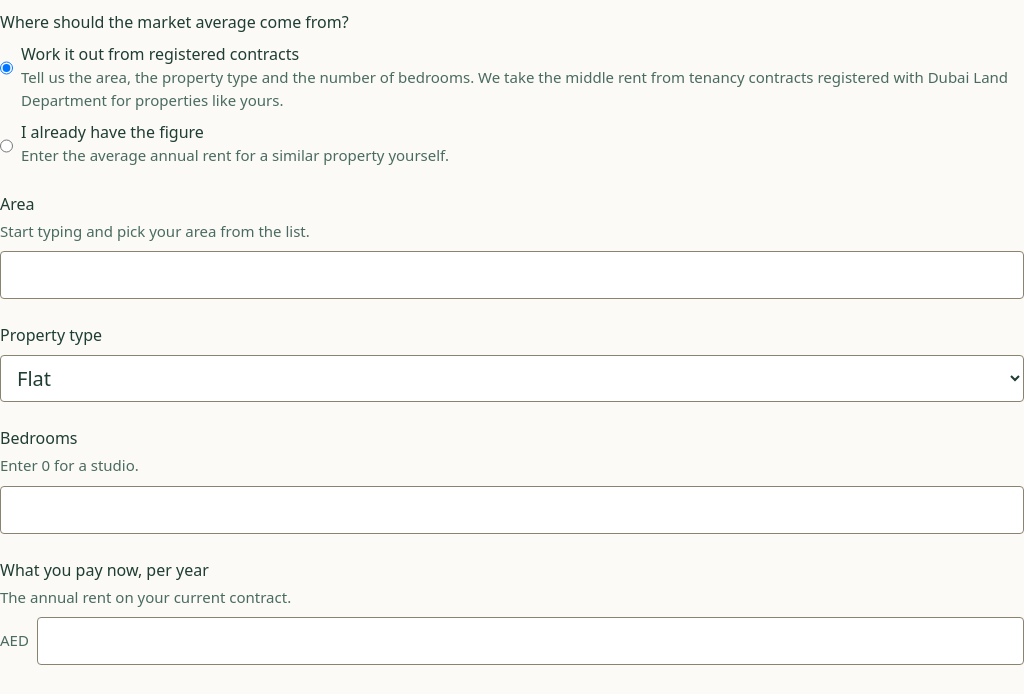
it: the document a reader takes away › is offered once there is a result
Type "Al Barsha First" into the field labelled "Area" at (512, 275), box [0,251,1023,299]
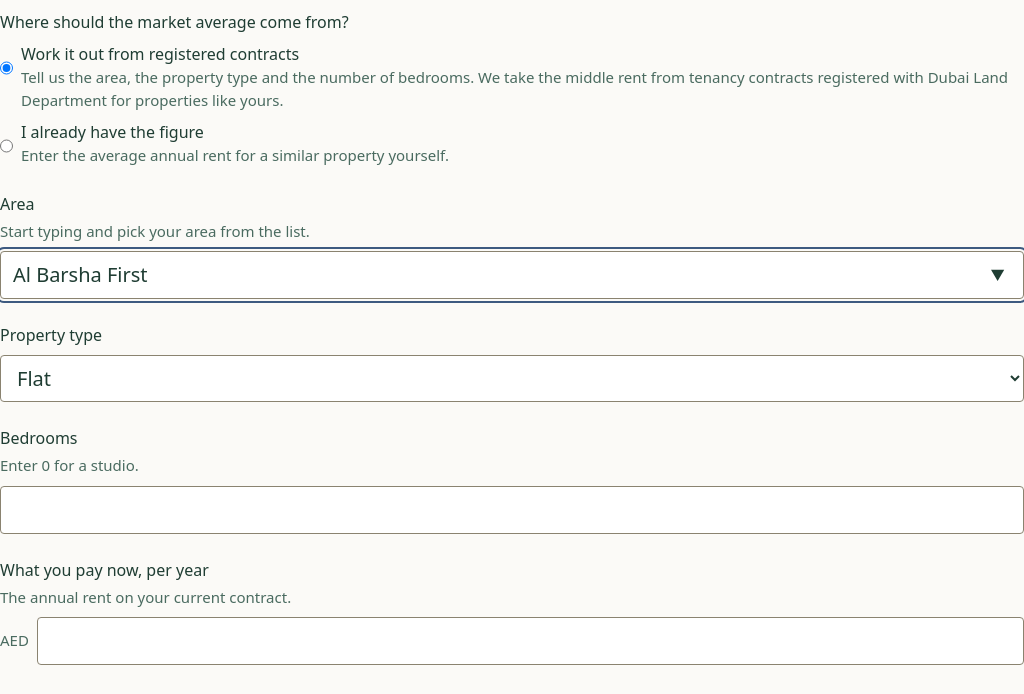
Type "2" into the field labelled "Bedrooms" at (512, 510), box [0,486,1023,534]
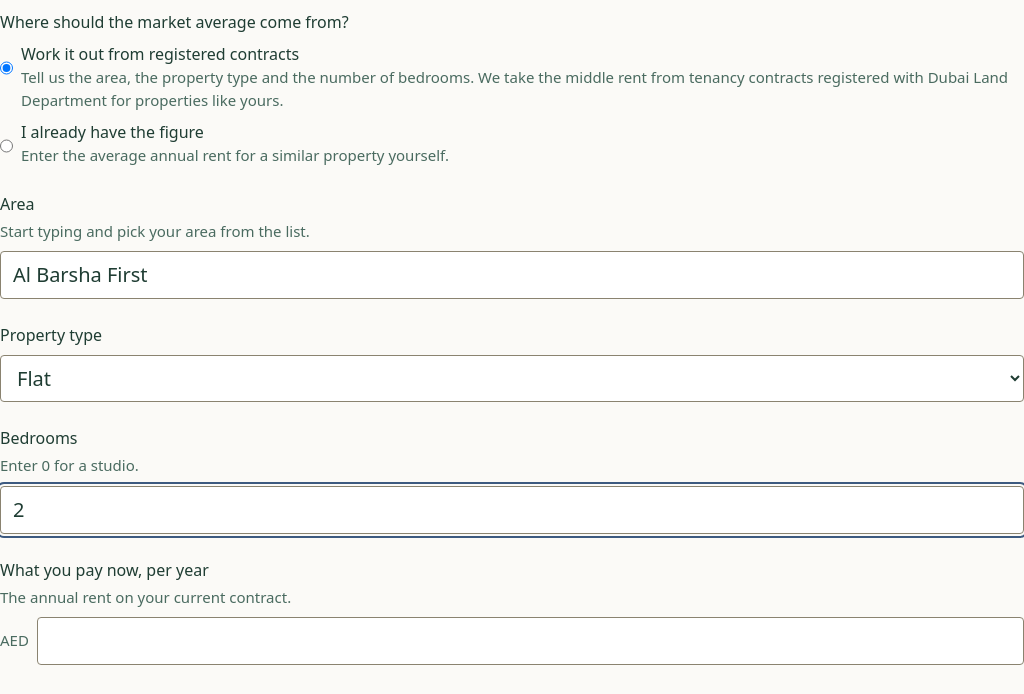
Type "80000" into the field labelled "What you pay now, per year" at (530, 641), box [37,617,1023,665]
(page scrolled)
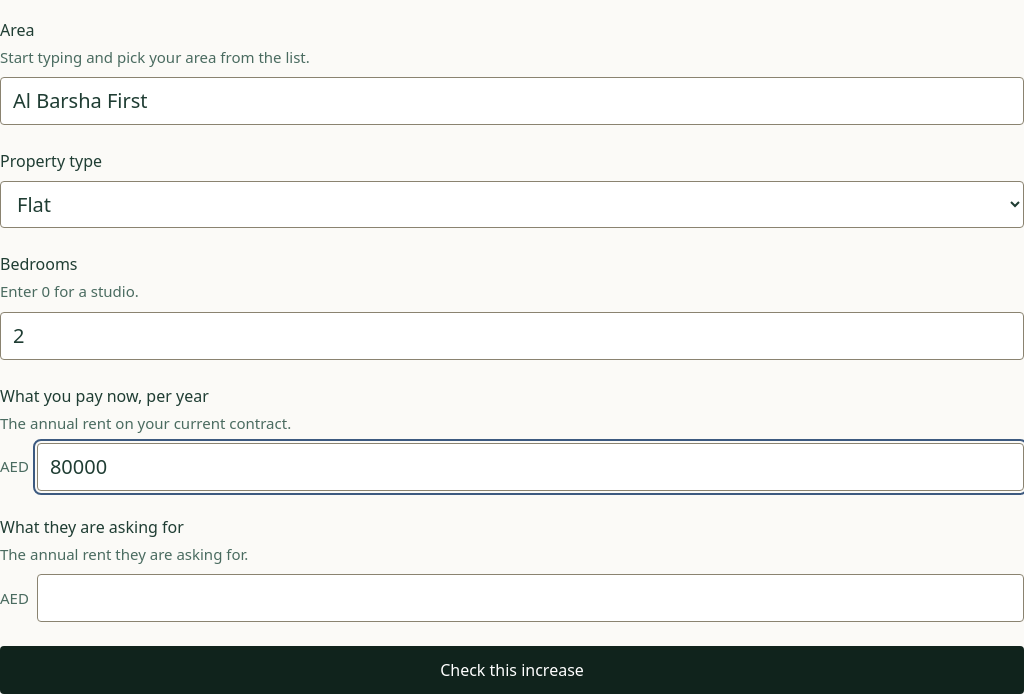
Type "96000" into the field labelled "What they are asking for" at (530, 598), box [37,574,1023,622]
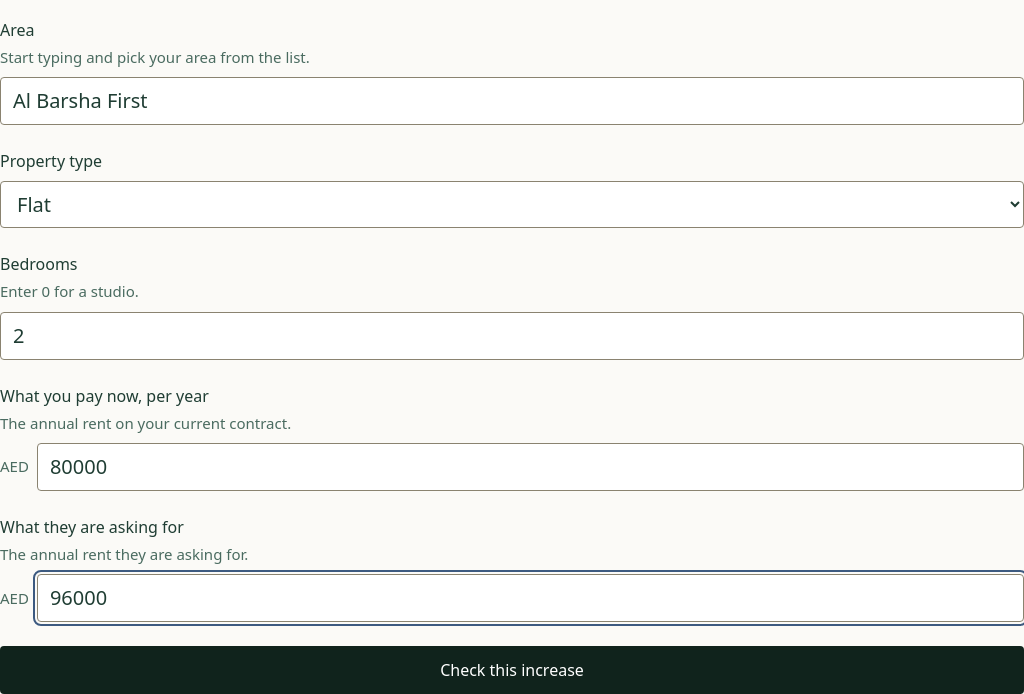
Click the button "Check this increase" at (512, 670), box [0,646,1023,693]
(page scrolled)
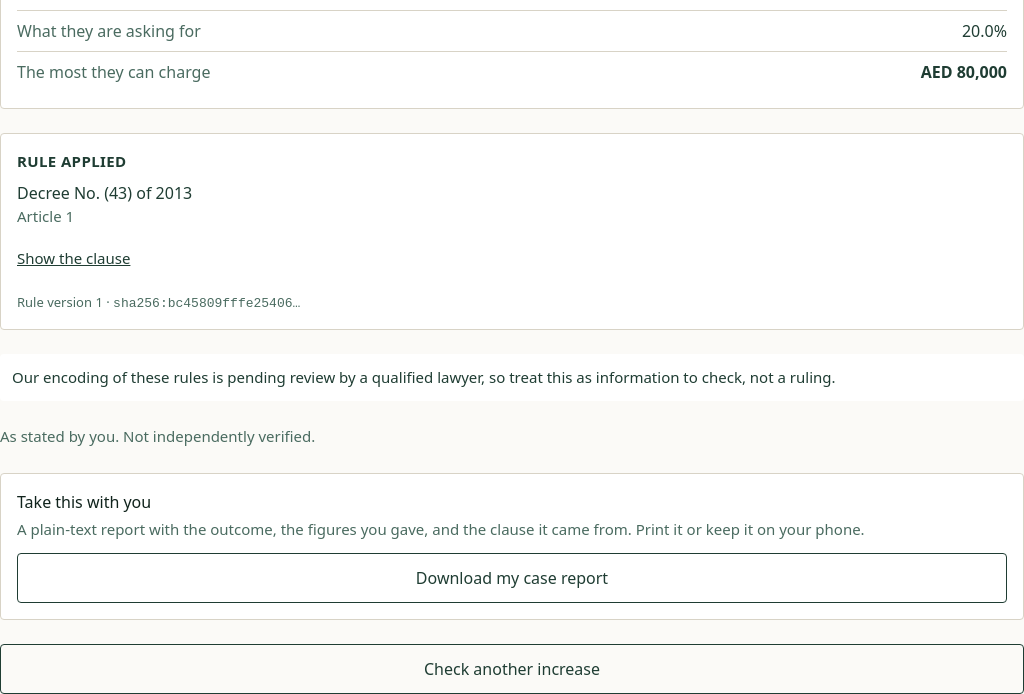
Now the button "Download my case report" is shown, box [17,553,1007,603]
